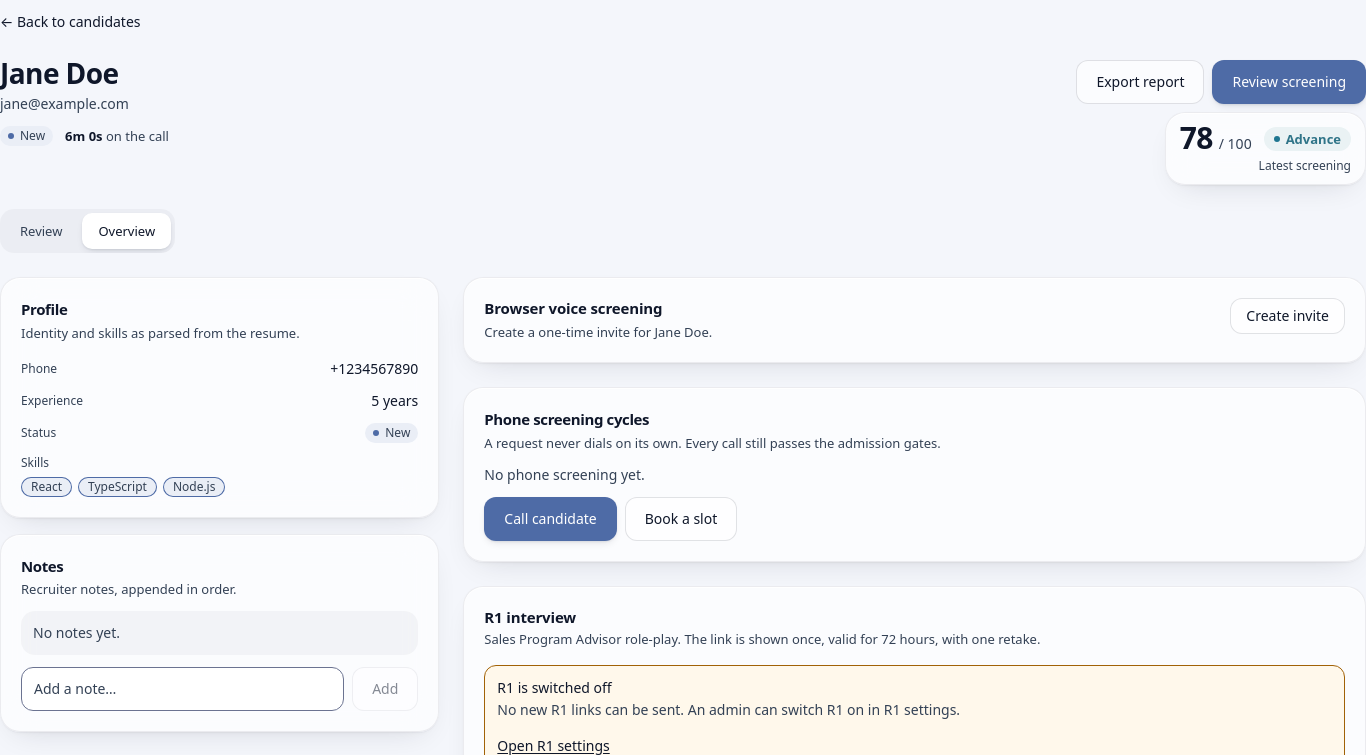
Test case: CandidateDetailPage › requires confirmation before requesting a phone screening
expect the heading "Jane Doe" is shown: met, box [0,54,118,92]
Click the button "Call candidate": point(550, 518) [484,496,617,540]
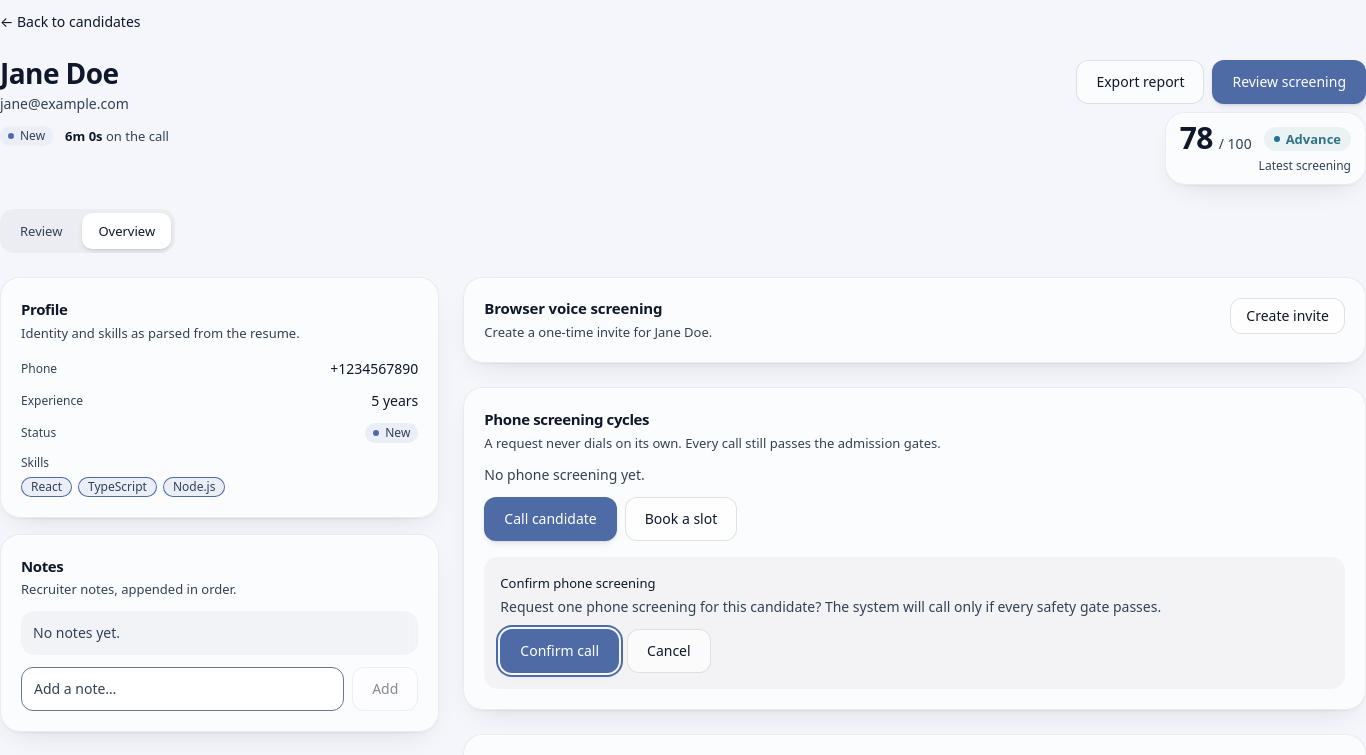
expect the dialog "Confirm phone screening" is shown: met, box [484,556,1345,688]
Click the button "Confirm call": point(560, 650) [500,628,619,672]
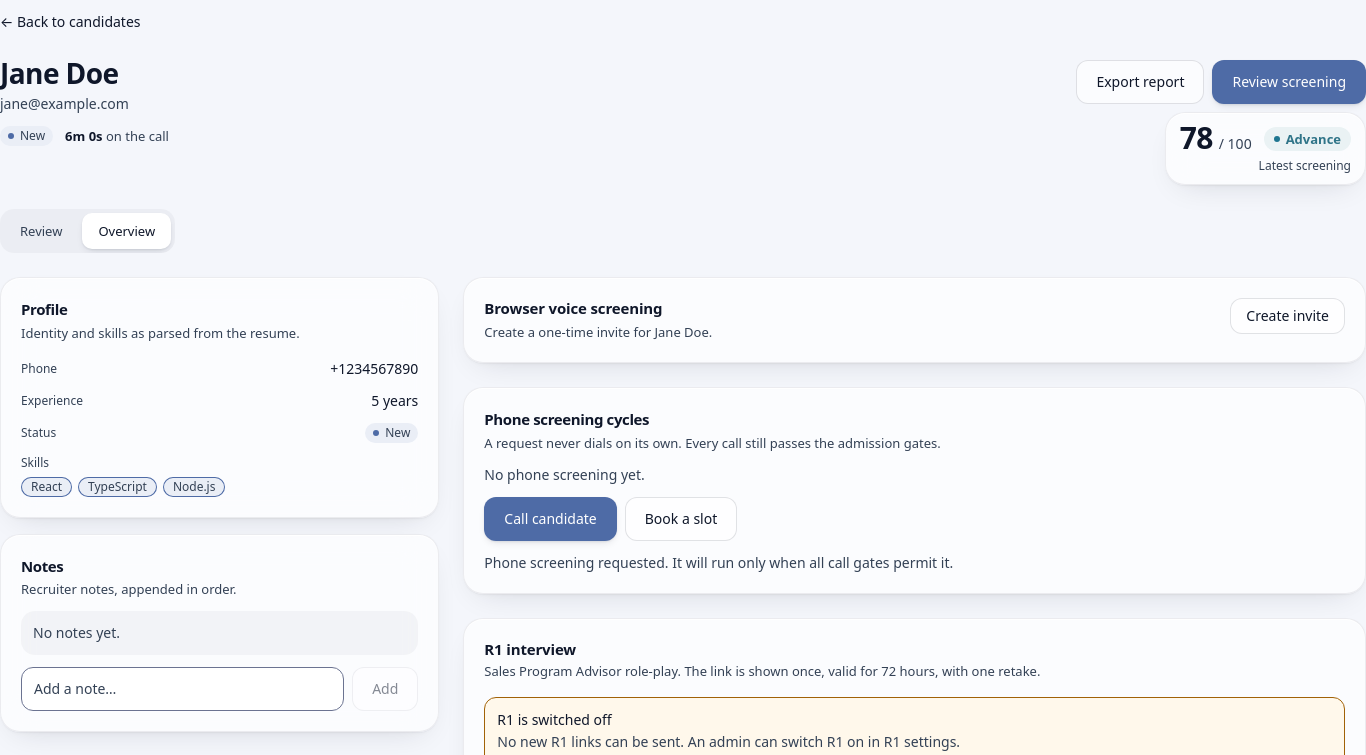
expect the message shows "Phone screening requested": met, box [484,552,953,572]
